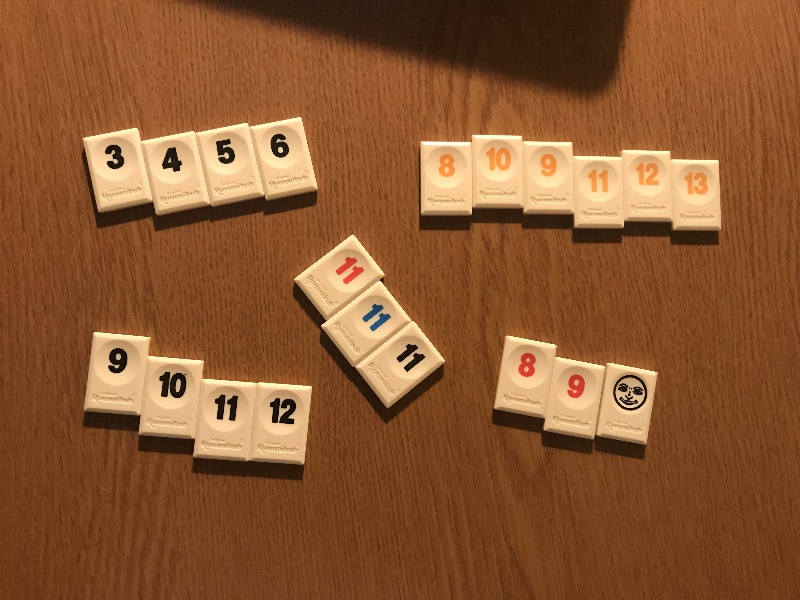single_tile: (354, 319, 449, 409), (292, 232, 388, 321), (318, 278, 413, 365), (194, 122, 266, 211), (142, 128, 212, 219), (83, 126, 153, 215), (82, 330, 154, 416), (249, 117, 320, 203), (191, 378, 259, 464), (137, 357, 205, 441), (252, 383, 314, 473), (493, 333, 557, 420), (545, 356, 607, 442), (596, 363, 658, 449), (418, 139, 475, 218), (472, 134, 526, 210), (524, 141, 575, 221), (673, 156, 724, 235), (573, 155, 625, 231), (623, 148, 674, 224)
tile_row: (81, 332, 314, 466), (417, 135, 728, 233), (295, 232, 448, 408), (82, 115, 320, 221), (493, 333, 659, 445)
